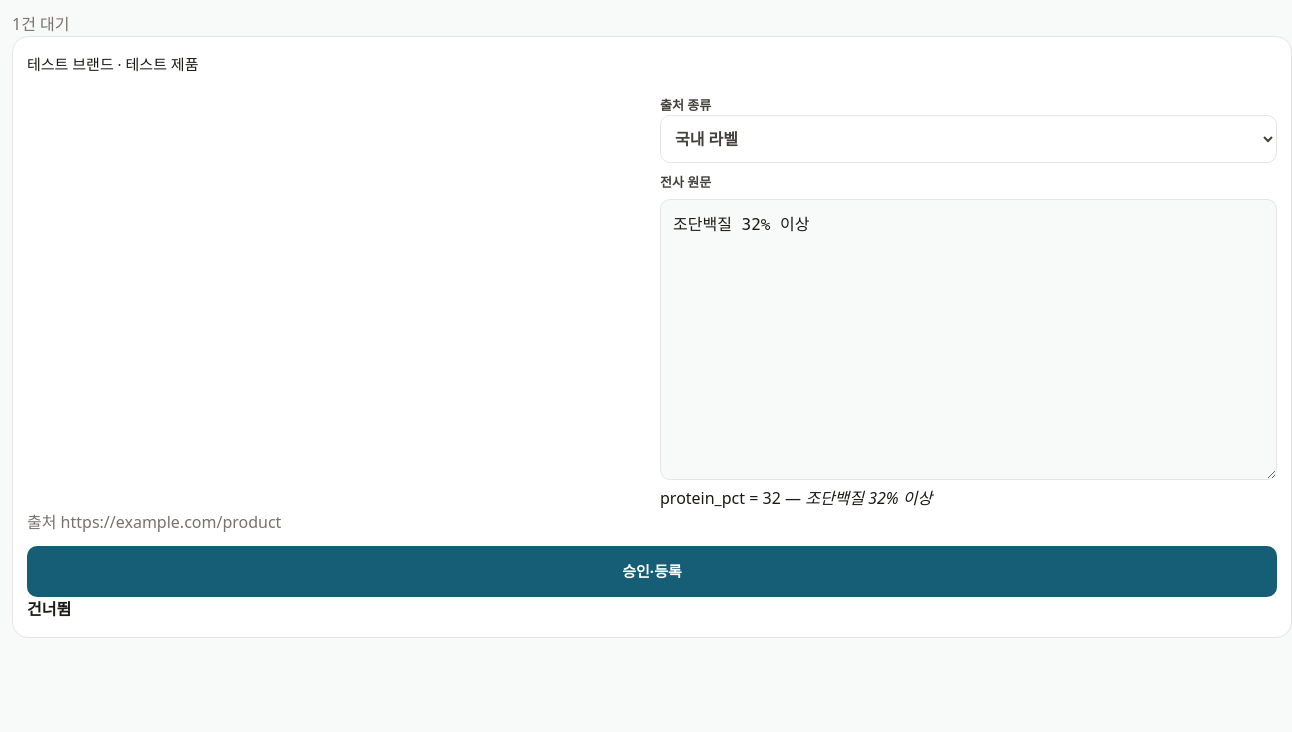
Scenario: LabelTranscribeClient 승인 실패 › 적용된 근거가 0건이면 run을 닫지 않고 미아 출처를 알린다
The image size is (1292, 732).
Click the button "승인·등록". click: [652, 572]
box: [27,546,1277,597]
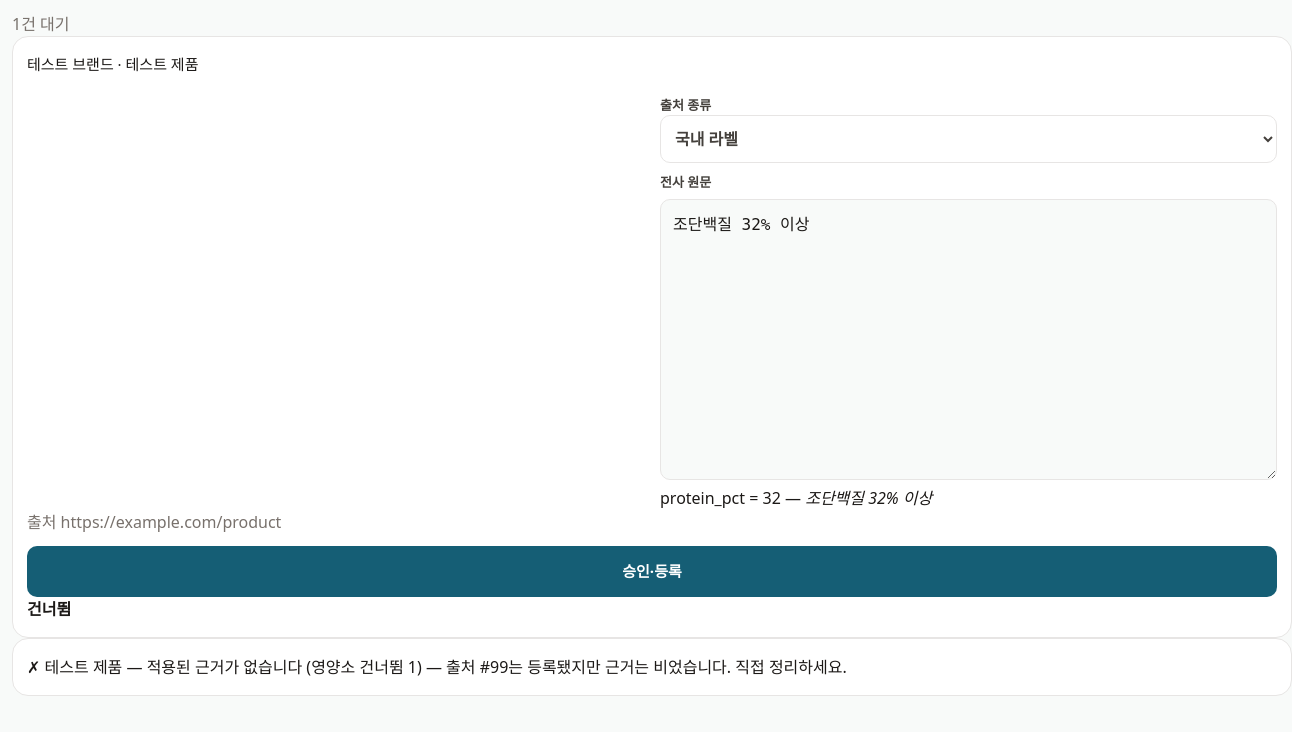
Result: the message shows "출처 #99" at [27,656,847,678]
Result: the message shows "적용된 근거가 없습니다" at [27,656,847,678]
